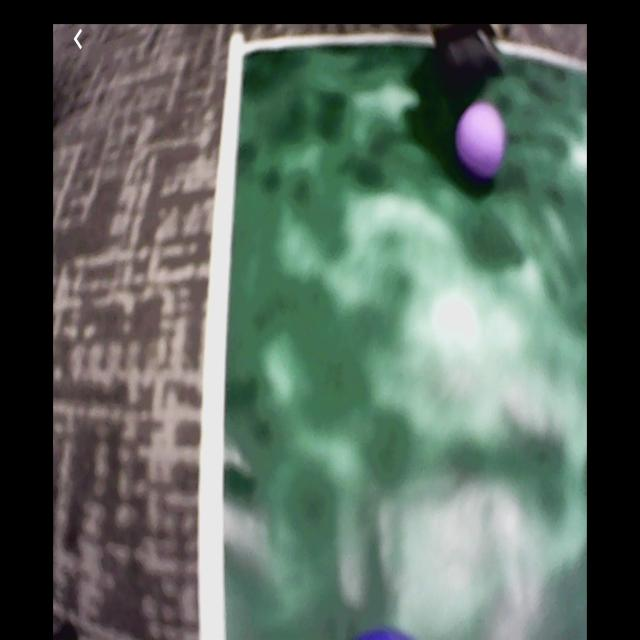ball: (457, 105, 506, 177)
